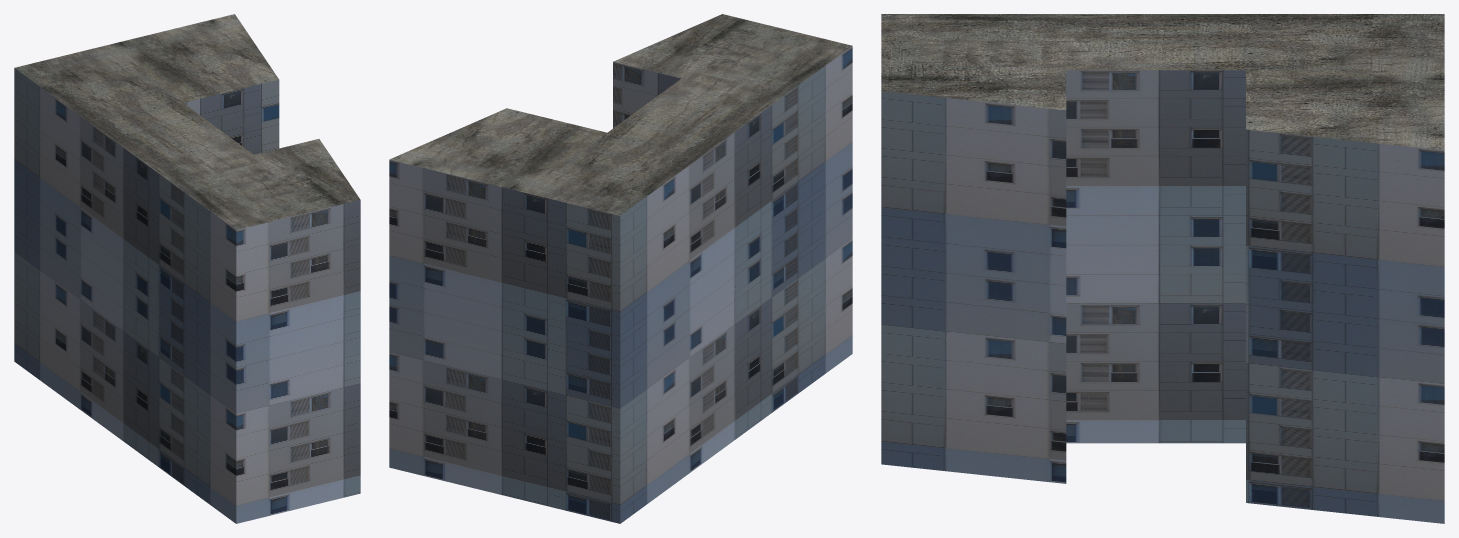
File: Building5.fbx
The picture shows the model from 3 angles, left to right: view 1: azimuth 30°, elevation 25°; view 2: azimuth 150°, elevation 25°; view 3: azimuth 270°, elevation 25°; orthographic projection. The views are drawn at different scales.
Parts seen in each view (by area): view 1: Building4; view 2: Building4; view 3: Building4.
Part boxes in pixels (left/top/right/bottom): Building4: left=14, top=14, right=360, bottom=523; Building4: left=389, top=14, right=852, bottom=523; Building4: left=881, top=14, right=1444, bottom=523.
Bounding box in the file's own units: 39012 × 49682 × 67978.
